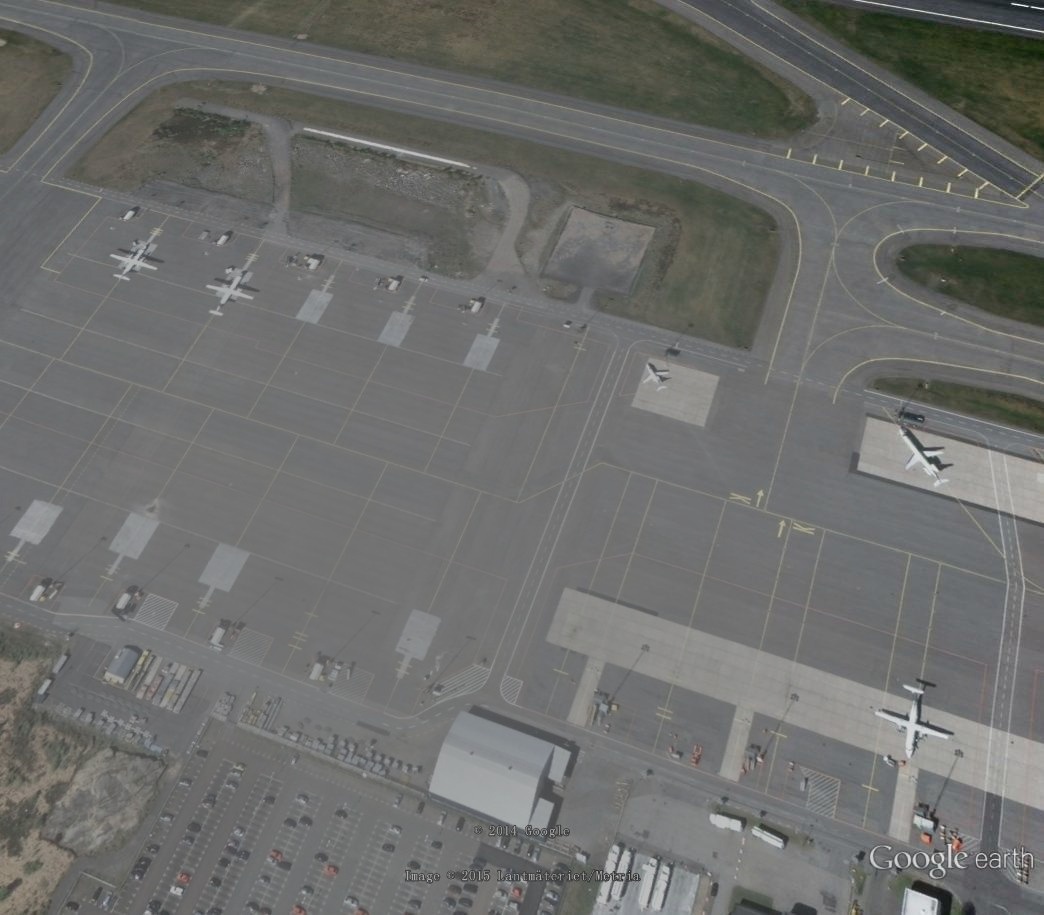aircraft: (874, 682, 955, 760), (894, 424, 955, 492), (202, 268, 262, 322), (108, 240, 168, 289), (642, 360, 673, 396)
